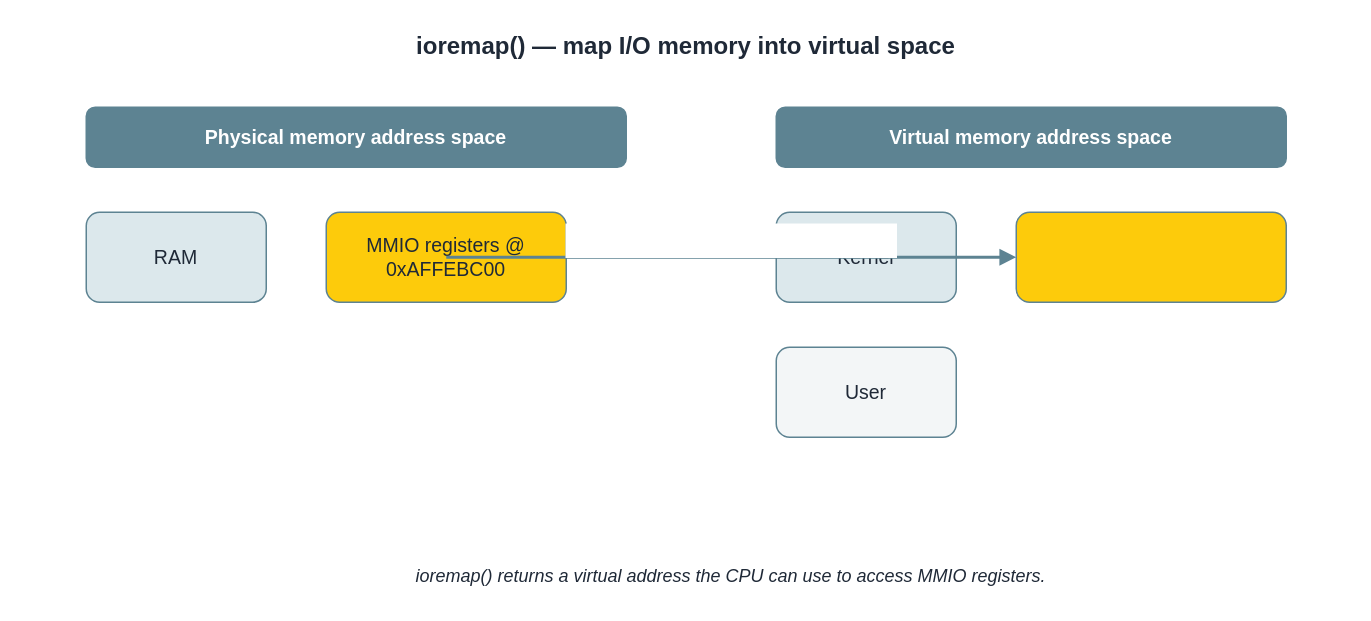
Image size: 1371x621. Some labels were removed from this diagram. Here are the shapes that lost their labels. From the top down, the box of each, then its label:
(565, 223, 896, 257): ioremap(0xAFFEBC00, 4096)
(1015, 211, 1286, 302): 0xCDEFA000 (virtual mapping)
